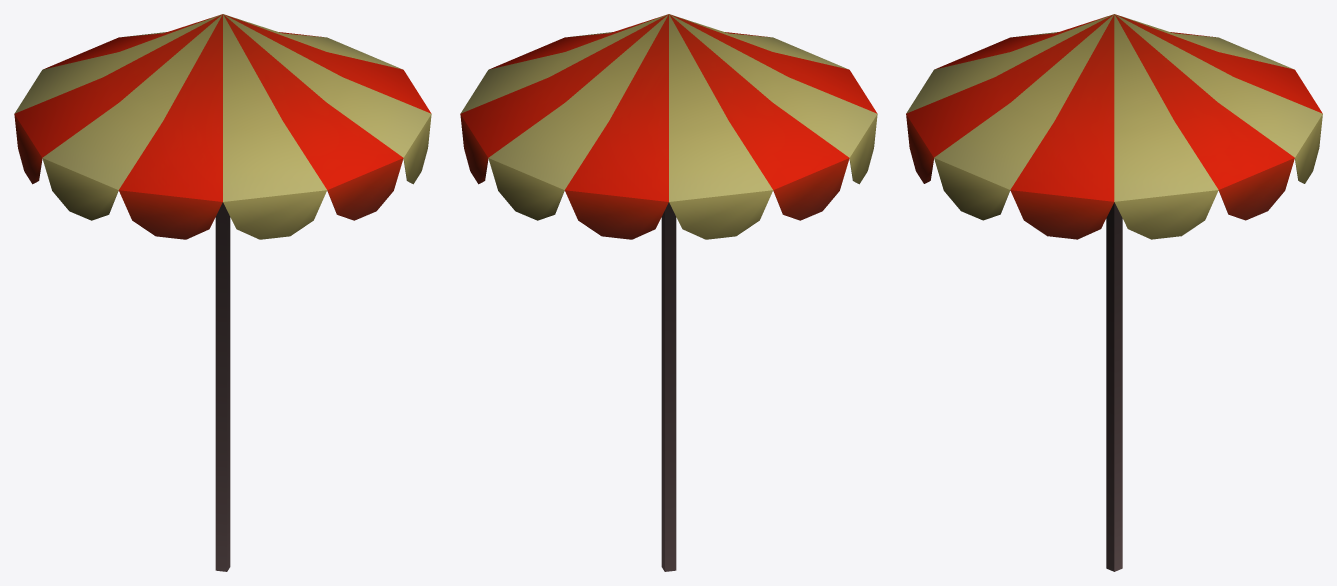
Rendered from Umbrella_3A.fbx.
3 views of the same model, side by side, from view 1: azimuth 30°, elevation 25°; view 2: azimuth 150°, elevation 25°; view 3: azimuth 270°, elevation 25° (orthographic).
Parts seen in each view (by area): view 1: Umbrella_3A; view 2: Umbrella_3A; view 3: Umbrella_3A.
Part boxes in pixels (<box>): Umbrella_3A: <box>14,14,431,571</box>; Umbrella_3A: <box>460,14,877,571</box>; Umbrella_3A: <box>906,14,1322,571</box>.
Size of the model in its own units: 193 by 283 by 193.
